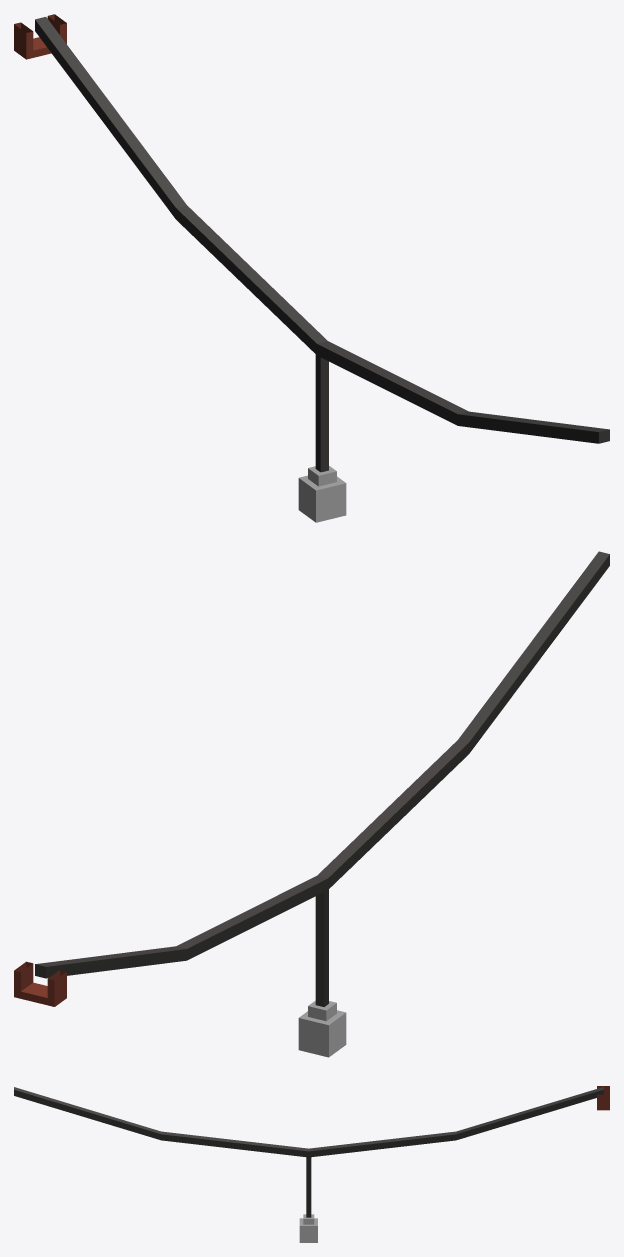
The model's file is AI_Env_StringLights_Small.fbx.
3 renders of one model, top to bottom at view 1: azimuth 30°, elevation 25°; view 2: azimuth 150°, elevation 25°; view 3: azimuth 270°, elevation 25°, orthographic. The views are drawn at different scales.
Parts seen in each view (by area): view 1: AI_Env_StringLights_Small; view 2: AI_Env_StringLights_Small; view 3: AI_Env_StringLights_Small.
Boxes of the visible parts, left/top/right/bottom form: AI_Env_StringLights_Small: left=14, top=14, right=609, bottom=522; AI_Env_StringLights_Small: left=14, top=551, right=609, bottom=1057; AI_Env_StringLights_Small: left=14, top=1086, right=609, bottom=1242.
Size of the model in its own units: 0.2087 by 1.41 by 5.05.
